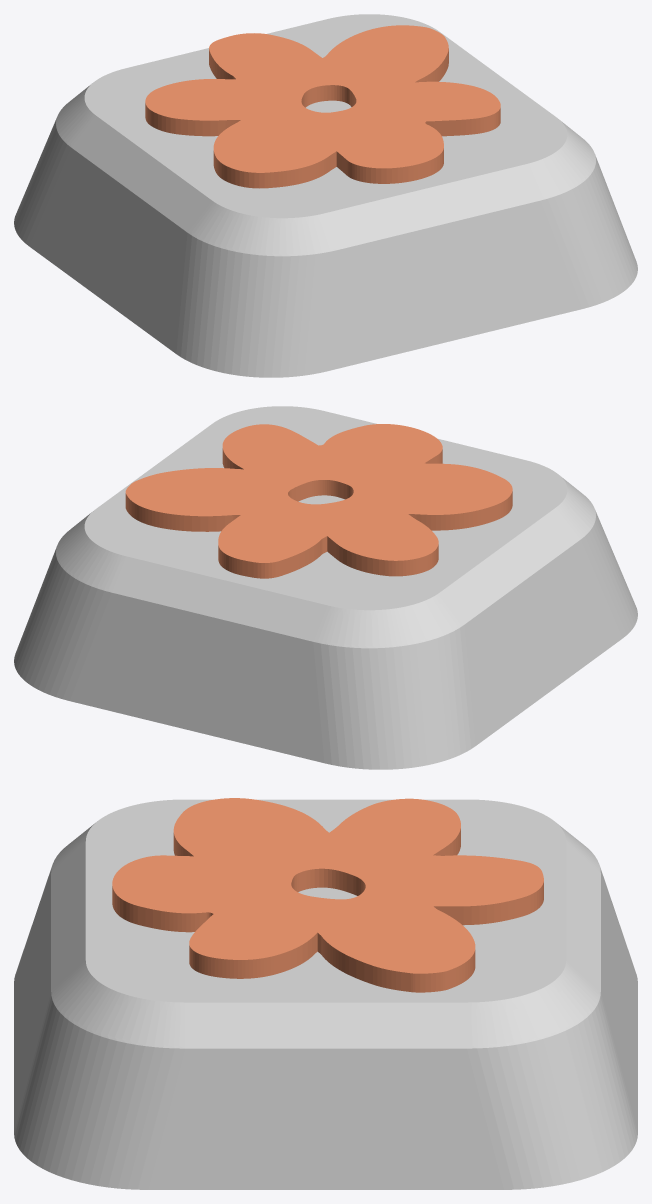
File: cap-flower.glb
The picture shows the model from 3 angles, top to bottom: view 1: azimuth 30°, elevation 25°; view 2: azimuth 150°, elevation 25°; view 3: azimuth 270°, elevation 25°; orthographic projection. The views are drawn at different scales.
Visible parts, largest first — view 1: cap_0, glyph_1; view 2: cap_0, glyph_1; view 3: cap_0, glyph_1.
Part boxes in pixels (x1,y1,x2,y2): cap_0: (14, 14, 637, 377); glyph_1: (145, 25, 500, 188); cap_0: (14, 406, 637, 769); glyph_1: (125, 424, 512, 578); cap_0: (14, 799, 637, 1189); glyph_1: (112, 798, 543, 992).
Bounding box in the file's own units: 18 × 5.6 × 18.
